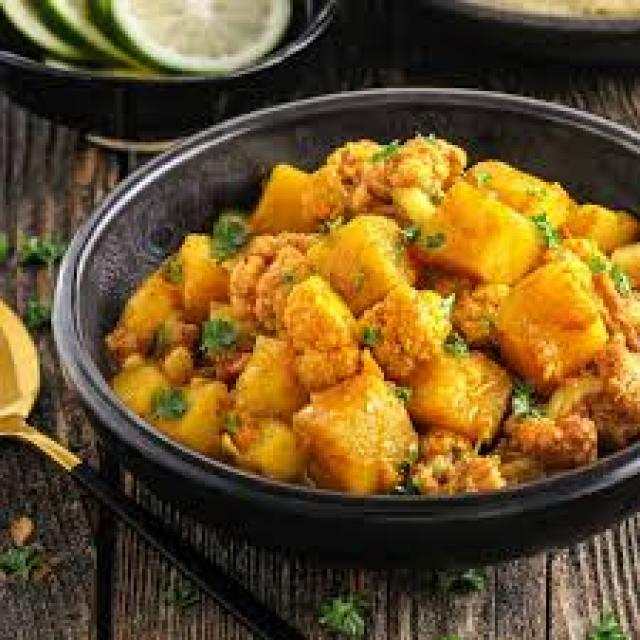Aloo Gobi: (114, 133, 640, 500)
